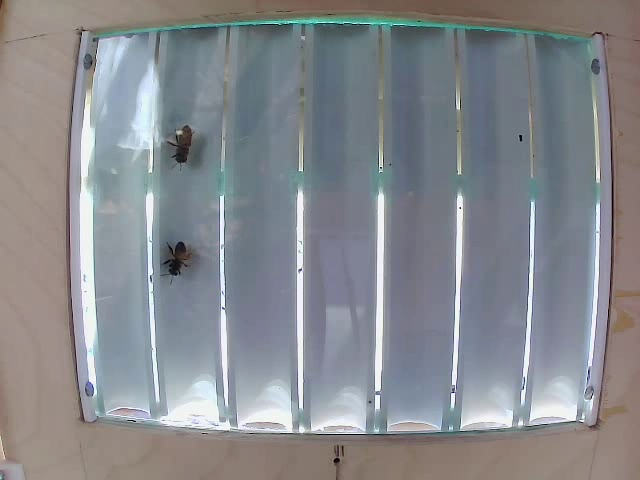bee: (157, 233, 201, 288), (165, 119, 206, 171)
